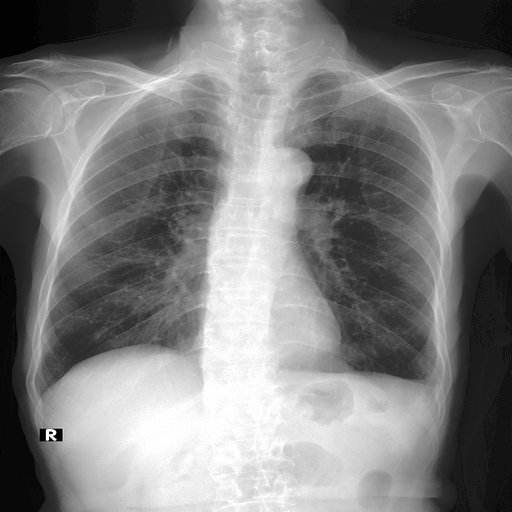Calcification: (418, 372, 447, 397)
Consolidation: (261, 144, 313, 181)
Pleural effusion: (418, 372, 447, 397)
